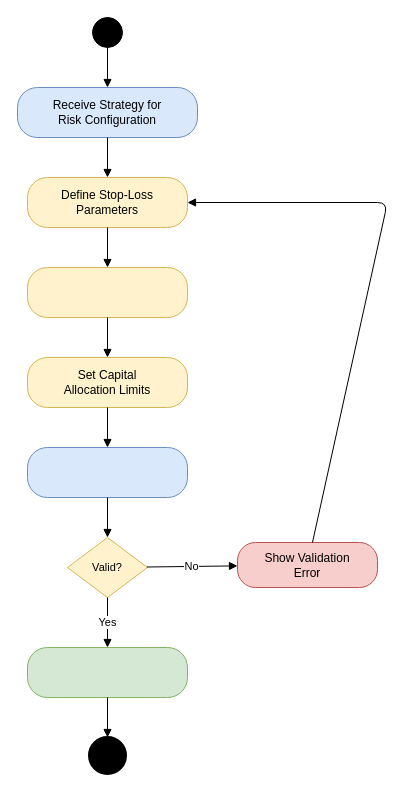
Image size: 413x792. Some labels were removed from this diagram. The centre of each missing label's shape, as x and y in pixels:
"Define Take-Profit Parameters" goes at (107,292).
"Inject Risk Rules into Strategy Code" goes at (107,672).
"Validate Risk Parameters" goes at (107,472).
